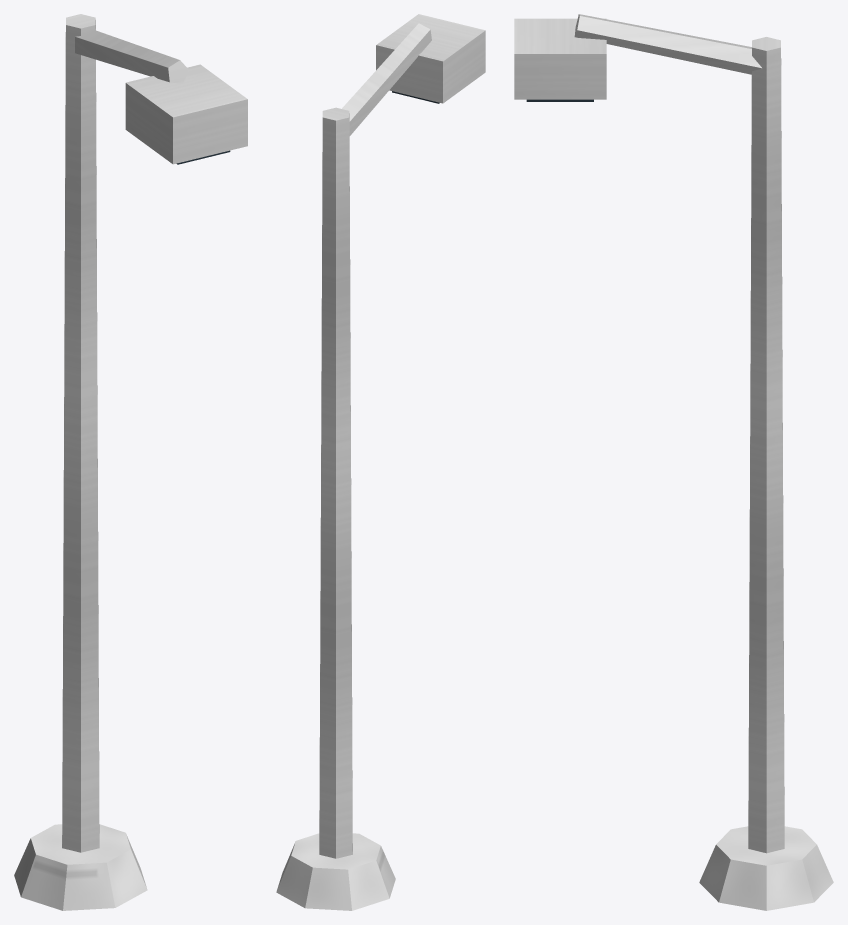
File: ruin_lamppost.obj
3 views of the same model, side by side, from view 1: azimuth 30°, elevation 25°; view 2: azimuth 150°, elevation 25°; view 3: azimuth 270°, elevation 25° (orthographic). The views are drawn at different scales.
Parts seen in each view (by area): view 1: ruin_lamppost; view 2: ruin_lamppost; view 3: ruin_lamppost.
Boxes of the visible parts, x1,y1,x2,y2 form: ruin_lamppost: (14,14,247,910); ruin_lamppost: (276,14,485,910); ruin_lamppost: (514,14,833,910).
Bounding box in the file's own units: 0.32 × 2.28 × 0.76.
